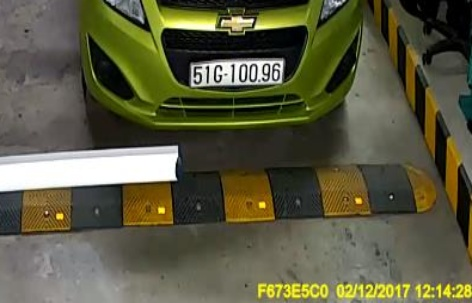plate: (190, 54, 284, 92)
